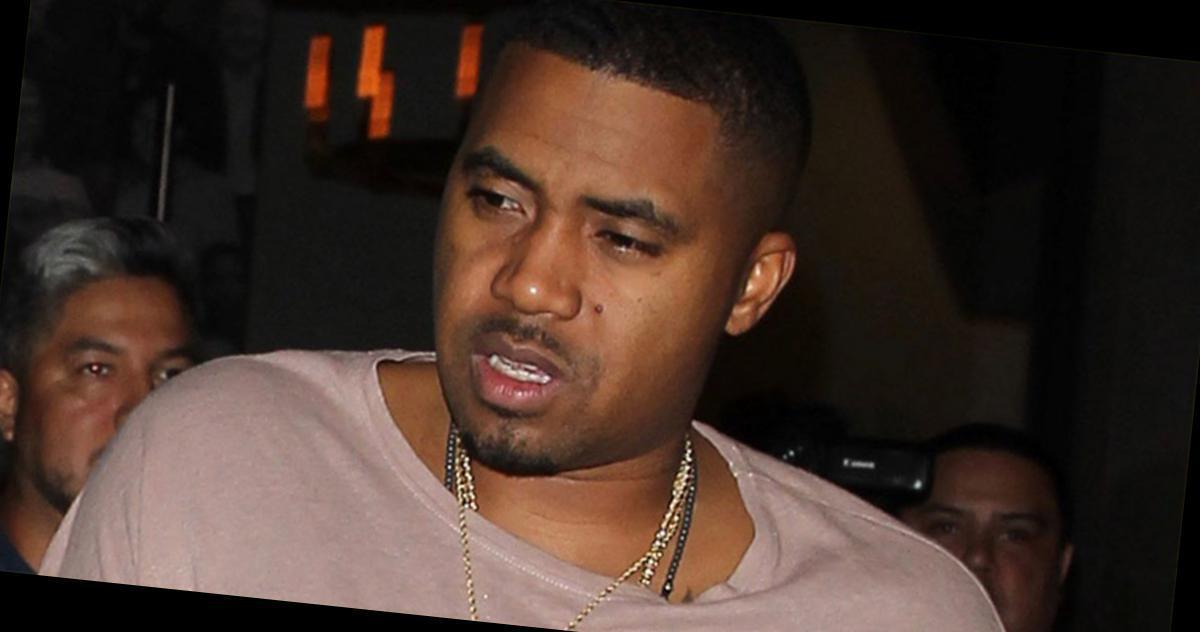Drunk: (448, 67, 702, 468)
